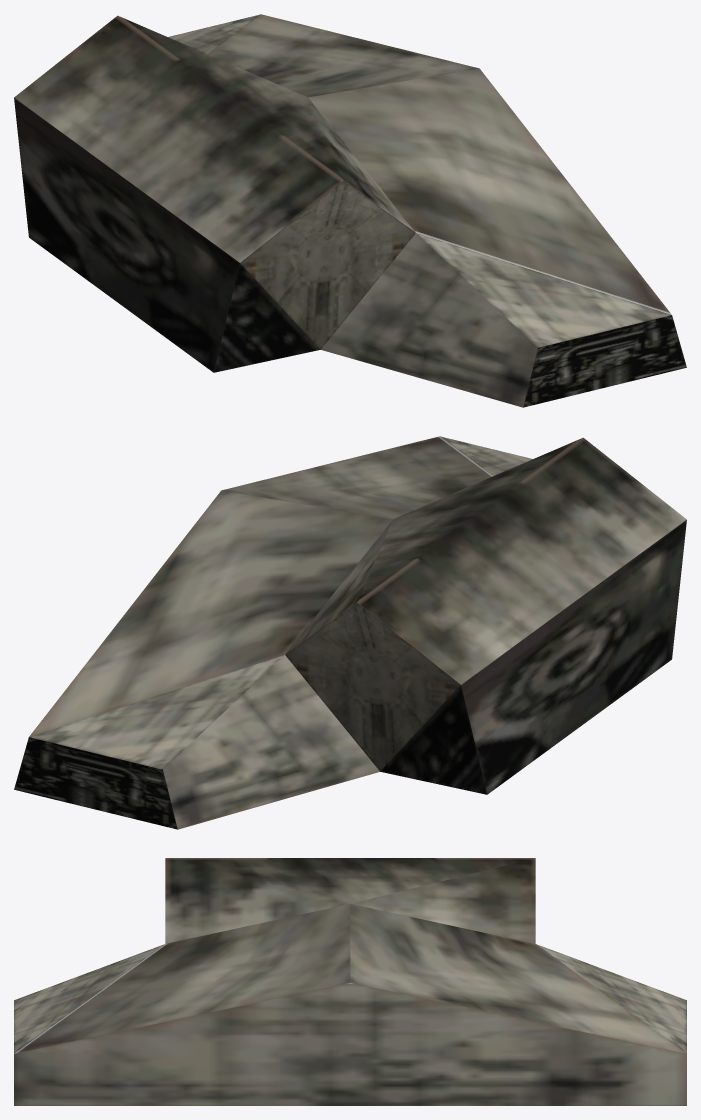
The model's file is thm_tato_lucky_despot_debris_aft_hull_l4.fbx.
3 renders of one model, top to bottom at view 1: azimuth 30°, elevation 25°; view 2: azimuth 150°, elevation 25°; view 3: azimuth 270°, elevation 25°, orthographic. The views are drawn at different scales.
Visible parts, largest first — view 1: mesh_node; view 2: mesh_node; view 3: mesh_node.
Boxes of the visible parts, box(x1,y1,x2,y2) form: mesh_node: box(14, 14, 686, 407); mesh_node: box(14, 436, 686, 829); mesh_node: box(14, 858, 686, 1105).
Size of the model in its own units: 40.49 by 19.36 by 80.
